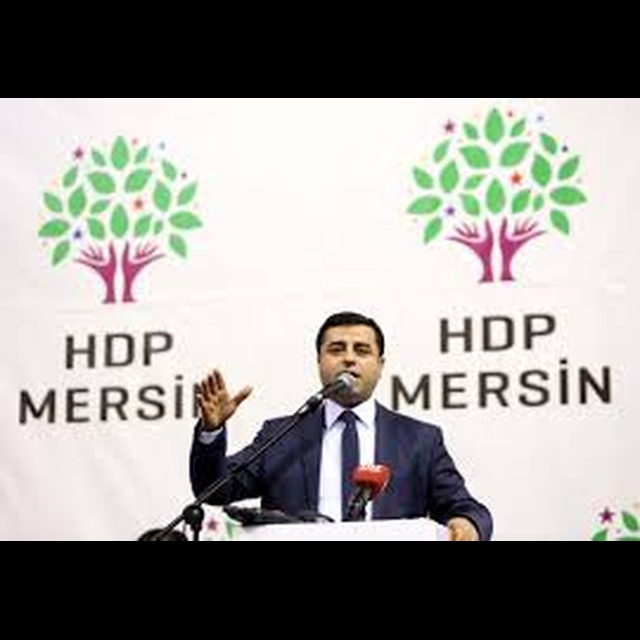HDP: (394, 102, 592, 287), (34, 132, 213, 309)
